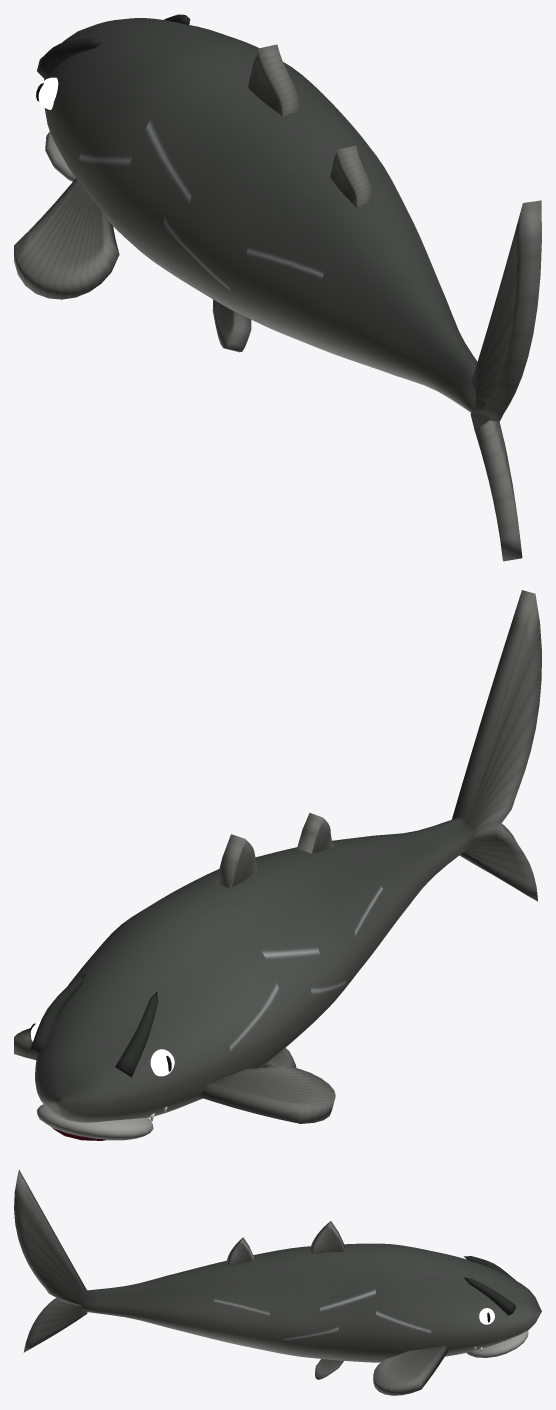
Rendered from GreenlandShark.glb.
The picture shows the model from 3 angles, top to bottom: view 1: azimuth 30°, elevation 25°; view 2: azimuth 150°, elevation 25°; view 3: azimuth 270°, elevation 25°; orthographic projection. The views are drawn at different scales.
Parts seen in each view (by area): view 1: GreenlandShark; view 2: GreenlandShark; view 3: GreenlandShark.
Part boxes in pixels (<box>): GreenlandShark: <box>14,14,541,561</box>; GreenlandShark: <box>14,590,541,1140</box>; GreenlandShark: <box>14,1169,541,1395</box>.
Size of the model in its own units: 2.05 by 1.96 by 5.03.
2 materials, 1 textured.
